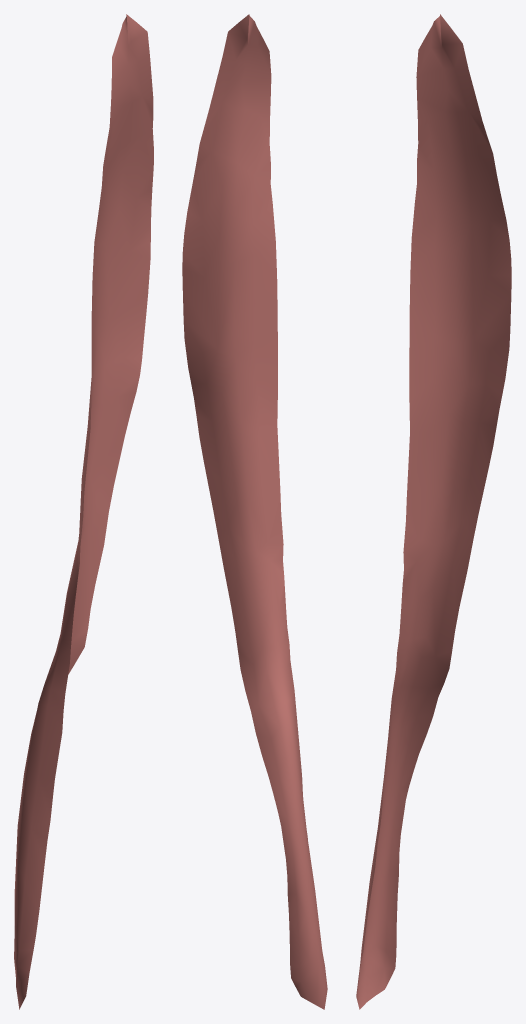
The picture shows the model from 3 angles, left to right: view 1: azimuth 30°, elevation 25°; view 2: azimuth 150°, elevation 25°; view 3: azimuth 330°, elevation 25°; orthographic projection. The views are drawn at different scales.
Visible parts, largest first — view 1: ZA_8d3ddbab99ec64ff; view 2: ZA_8d3ddbab99ec64ff; view 3: ZA_8d3ddbab99ec64ff.
Part boxes in pixels (x1,y1,x2,y2): ZA_8d3ddbab99ec64ff: (14,14,153,1009); ZA_8d3ddbab99ec64ff: (182,14,327,1009); ZA_8d3ddbab99ec64ff: (356,14,511,1009).
Size of the model in its own units: 0.0434 by 0.2911 by 0.0198.
